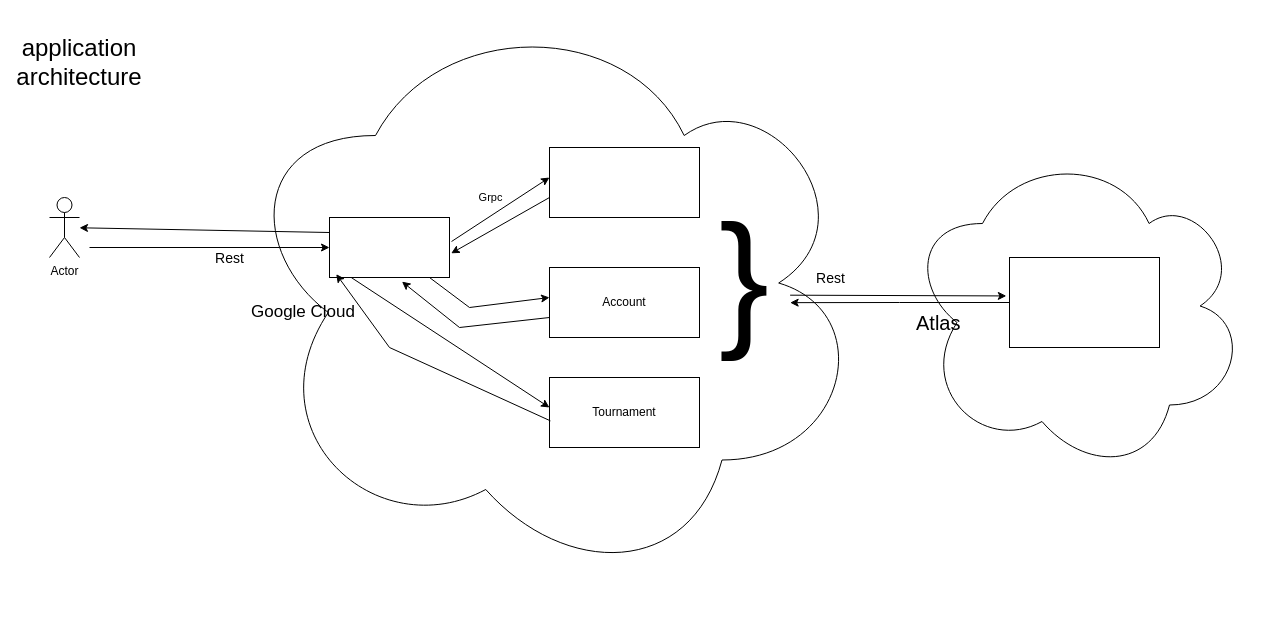
Image size: 1272x625. Some labels were removed from this diagram. Here are the shapes that lost their labels. From the top down, the centre of each, then its label:
At pixel 624 182: "Movie".
At pixel 389 247: "Game".
At pixel 1084 302: "BD(Mongo)".
